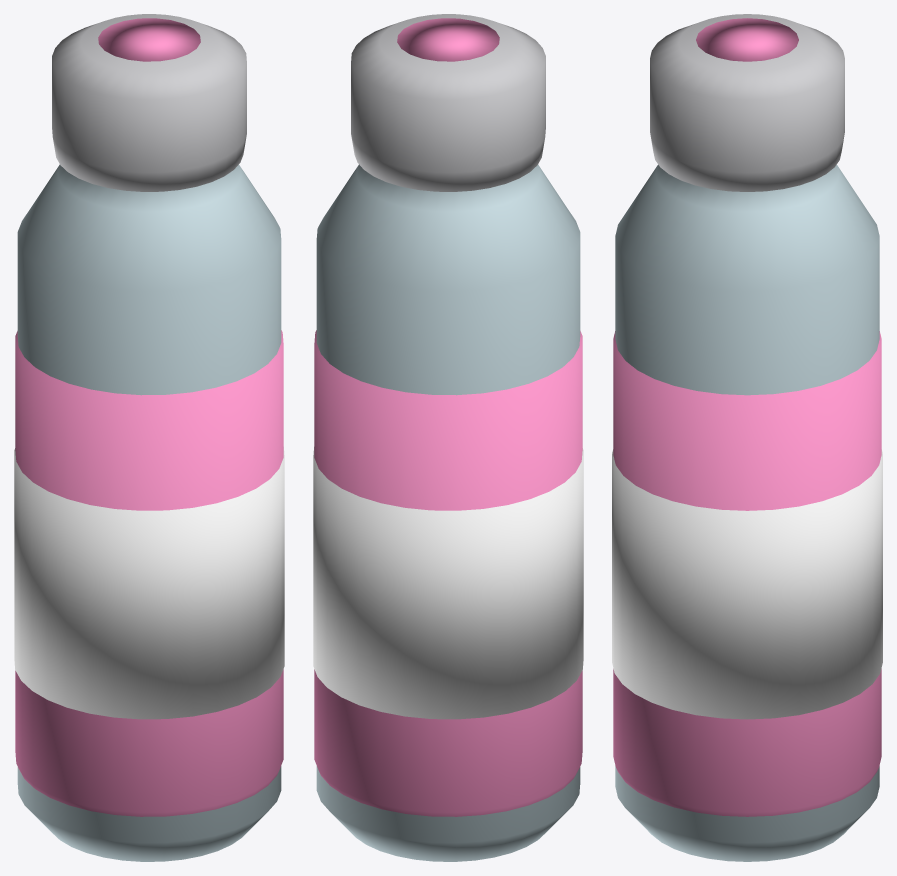
File: SM_Regenerator.glb
3 renders of one model, left to right at view 1: azimuth 30°, elevation 25°; view 2: azimuth 150°, elevation 25°; view 3: azimuth 270°, elevation 25°, orthographic.
Parts seen in each view (by area): view 1: SM_Regenerator; view 2: SM_Regenerator; view 3: SM_Regenerator.
Boxes of the visible parts, x1=… form: SM_Regenerator: x1=14, y1=14, x2=284, y2=861; SM_Regenerator: x1=313, y1=14, x2=583, y2=861; SM_Regenerator: x1=612, y1=14, x2=882, y2=861.
Size of the model in its own units: 0.0236 by 0.0752 by 0.0236.
